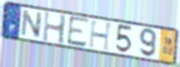5: (114, 23, 134, 55)
9: (138, 28, 158, 59)
E: (66, 14, 91, 49)
H: (41, 10, 68, 47), (88, 19, 115, 53)
N: (19, 9, 45, 40)
